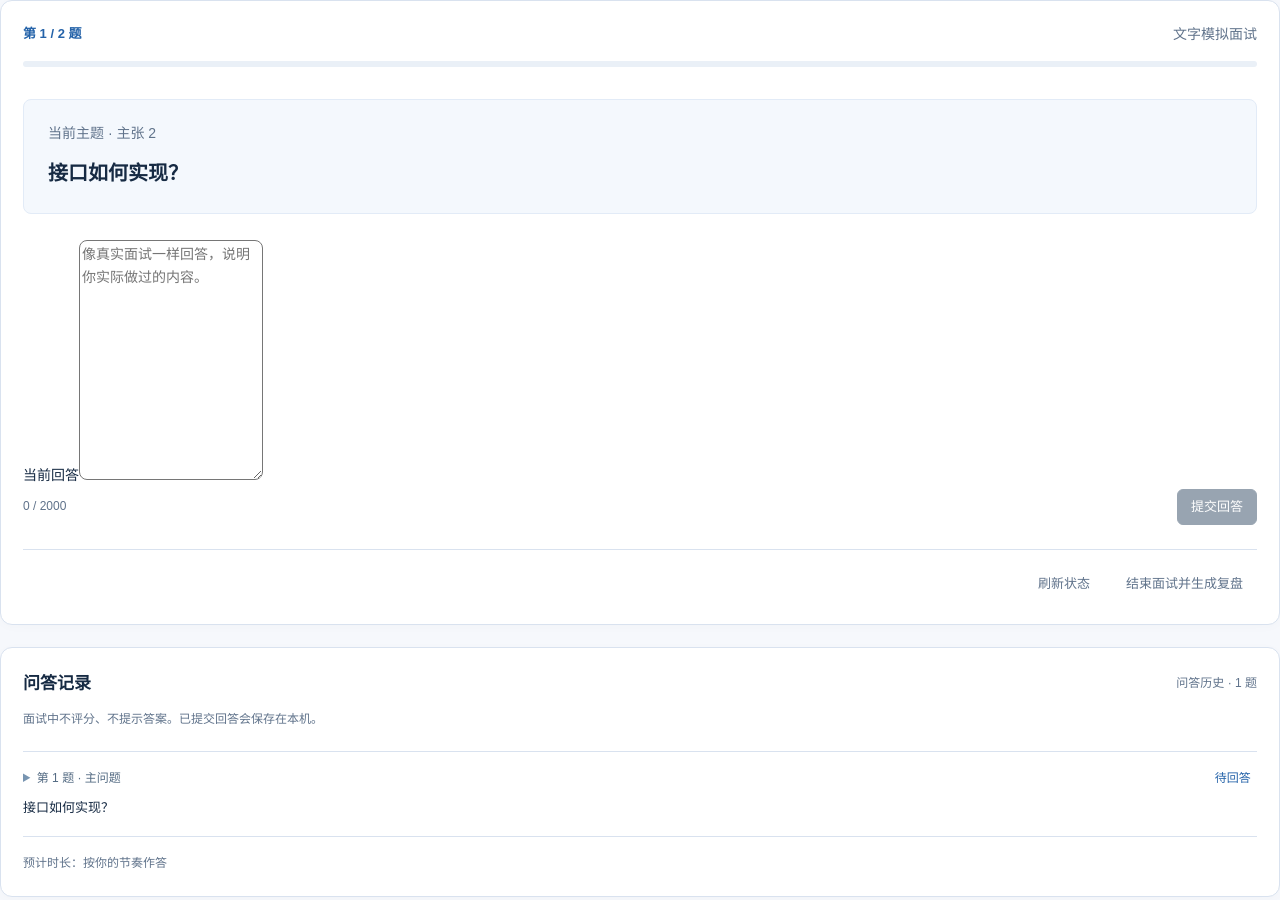
Test: 提前结束需要确认，取消不产生请求
Click the button "结束面试并生成复盘": click(1184, 584) [1112,566,1257,602]
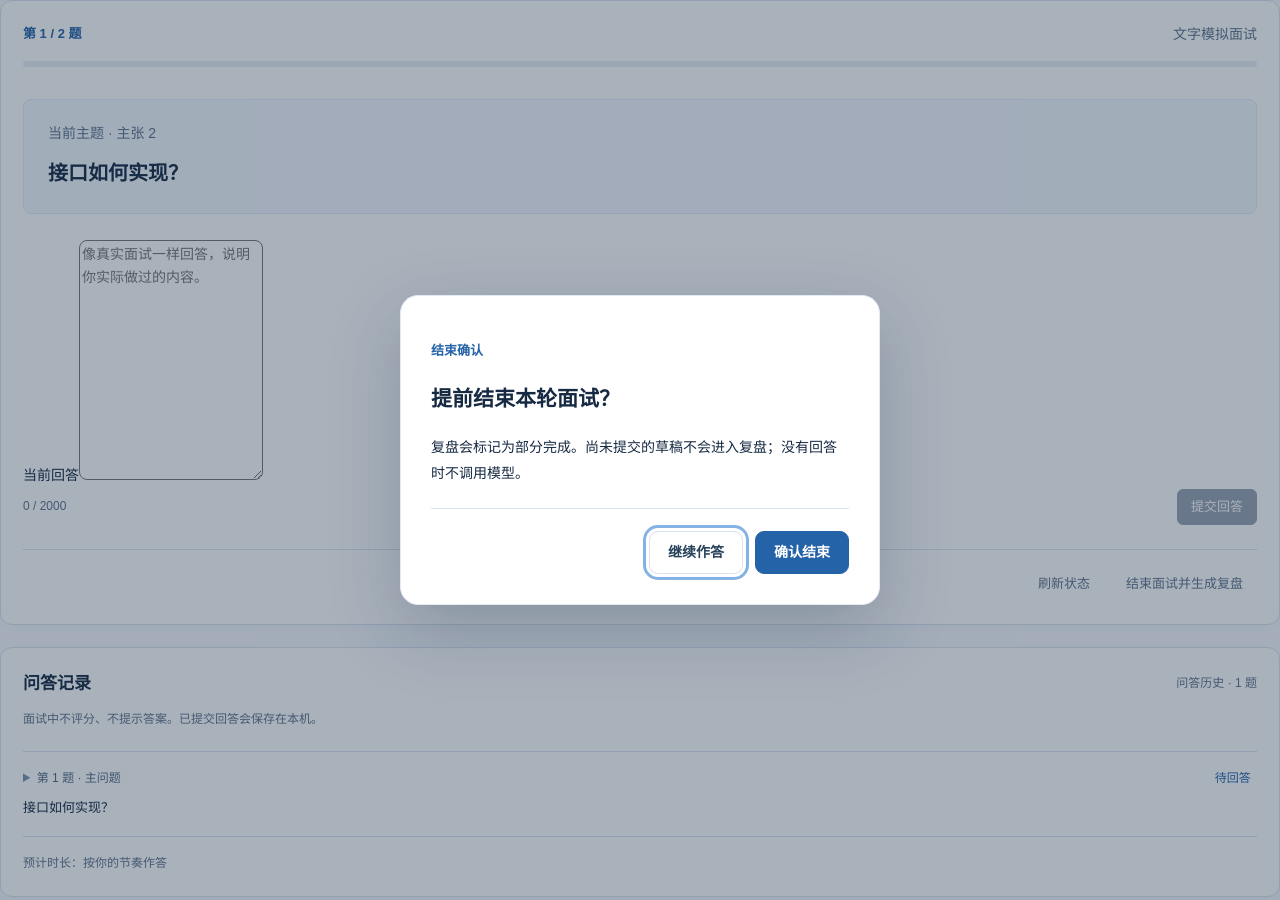
Now the dialog "提前结束本轮面试？" is shown, box [400,295,880,605]
Click the button "继续作答": click(696, 552) [649,531,743,574]
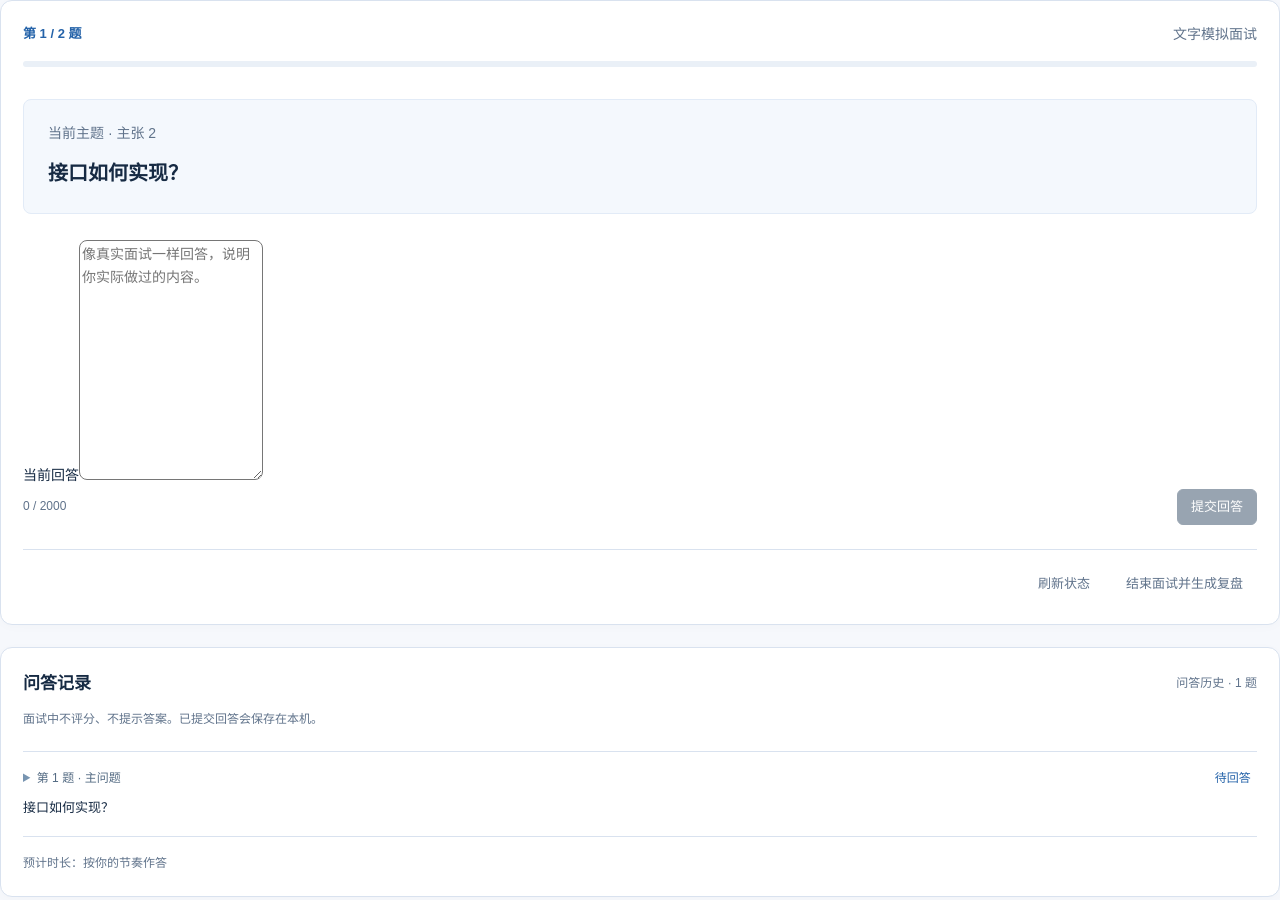
Now the dialog is gone
